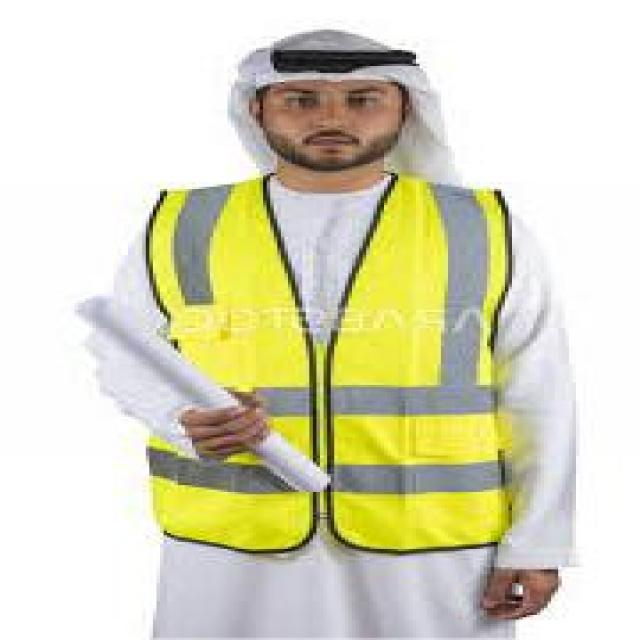Reflective-Jacket: (121, 166, 544, 563)
